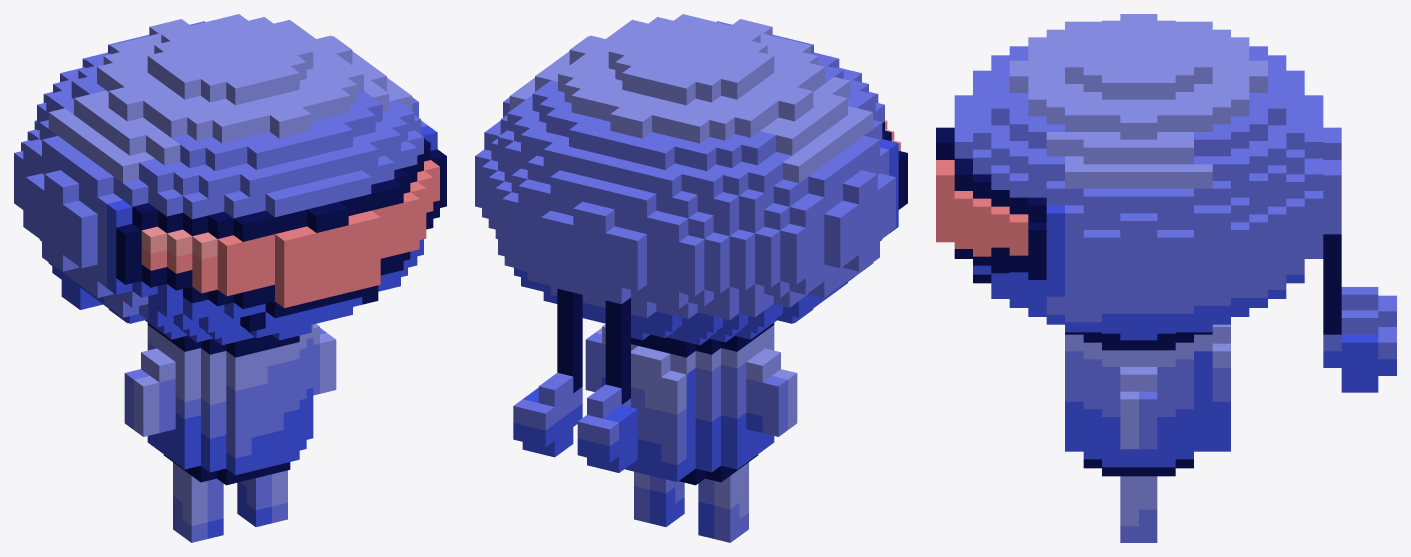
Rendered from ninja-2-idle1.obj.
3 views of the same model, side by side, from view 1: azimuth 30°, elevation 25°; view 2: azimuth 150°, elevation 25°; view 3: azimuth 270°, elevation 25° (orthographic).
Parts seen in each view (by area): view 1: idle1; view 2: idle1; view 3: idle1.
Part boxes in pixels (left/top/right/bottom): idle1: left=14, top=14, right=446, bottom=542; idle1: left=475, top=14, right=907, bottom=542; idle1: left=936, top=14, right=1396, bottom=542.
Bounding box in the file's own units: 2.2 × 2.8 × 2.5.
